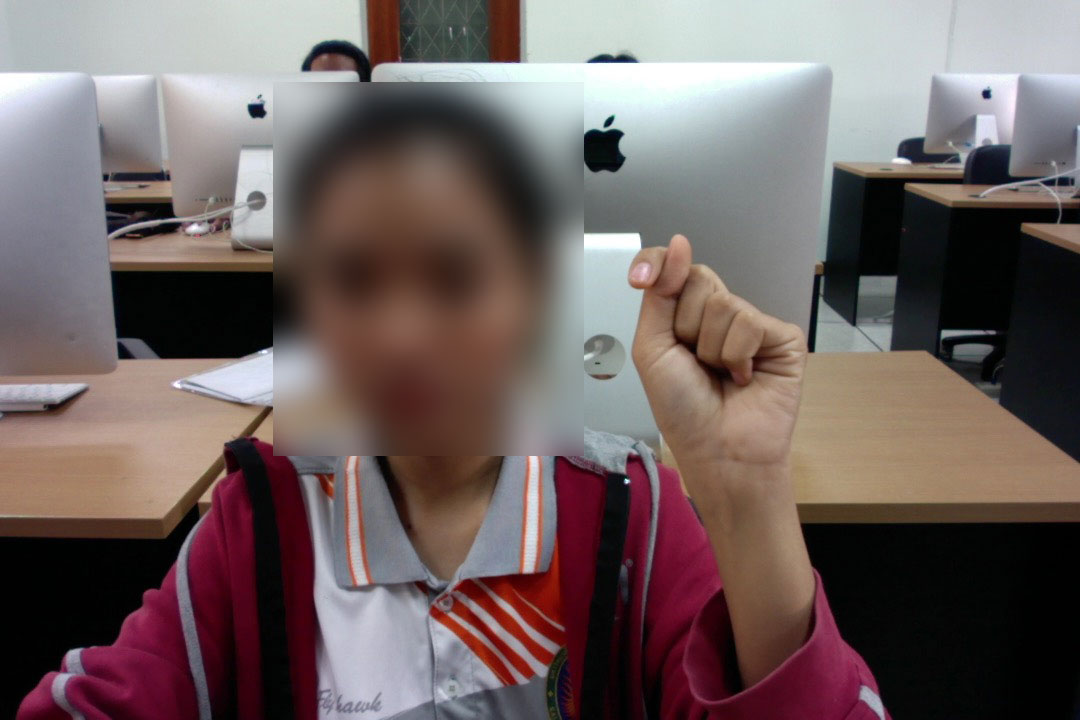tor: (619, 232, 816, 508)
